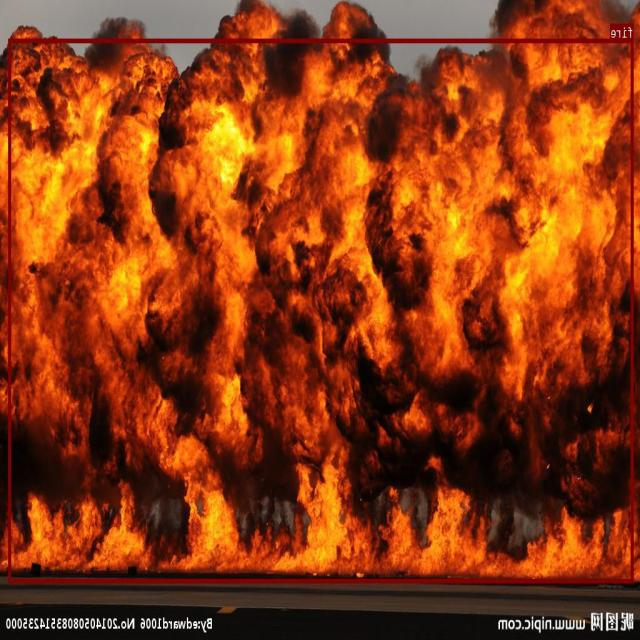fire: (9, 38, 634, 582)
